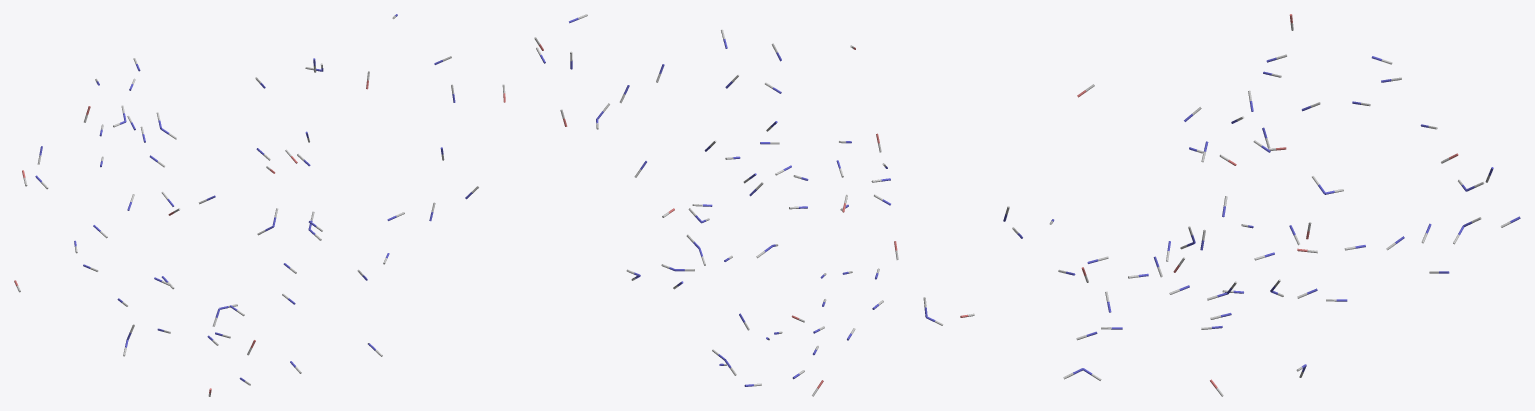
Rendered from 1crn__lines__default__H.glb.
3 views of the same model, side by side, from view 1: azimuth 30°, elevation 25°; view 2: azimuth 150°, elevation 25°; view 3: azimuth 270°, elevation 25° (orthographic). The views are drawn at different scales.
Parts seen in each view (by area): view 1: Renderer Node; view 2: Renderer Node; view 3: Renderer Node.
Part boxes in pixels (x1,y1,x2,y2): Renderer Node: (14, 14, 505, 396); Renderer Node: (534, 14, 974, 396); Renderer Node: (1003, 14, 1520, 396).
Bounding box in the file's own units: 27.92 × 19.06 × 24.36.
